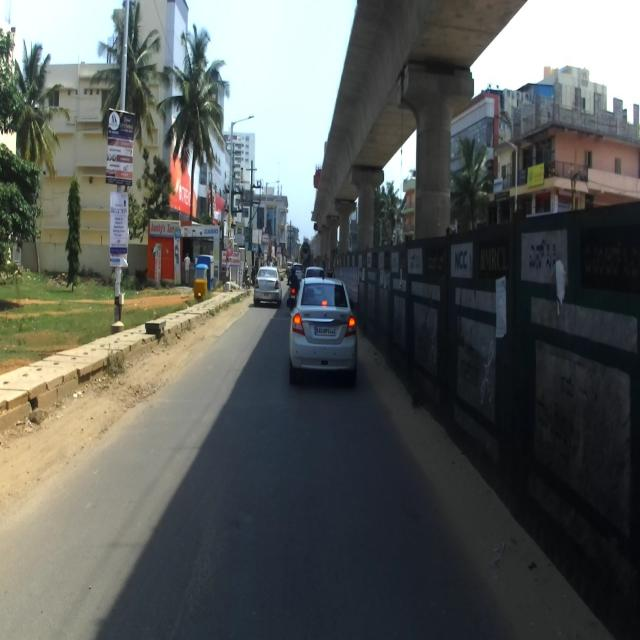car: (286, 276, 357, 384), (253, 267, 283, 308)
